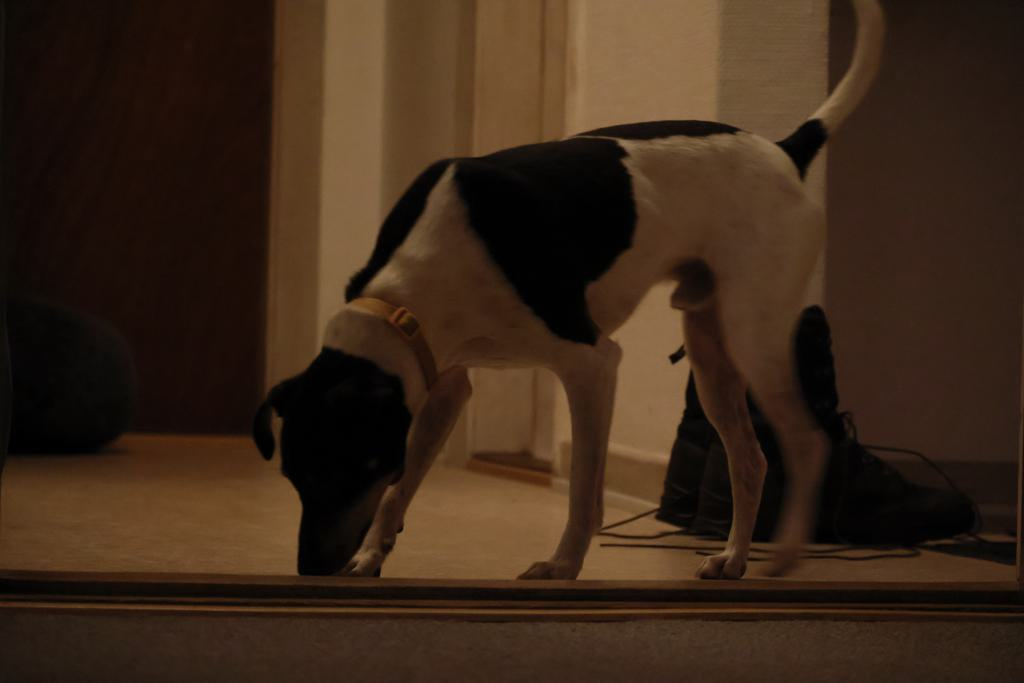Dog: (230, 0, 898, 593)
